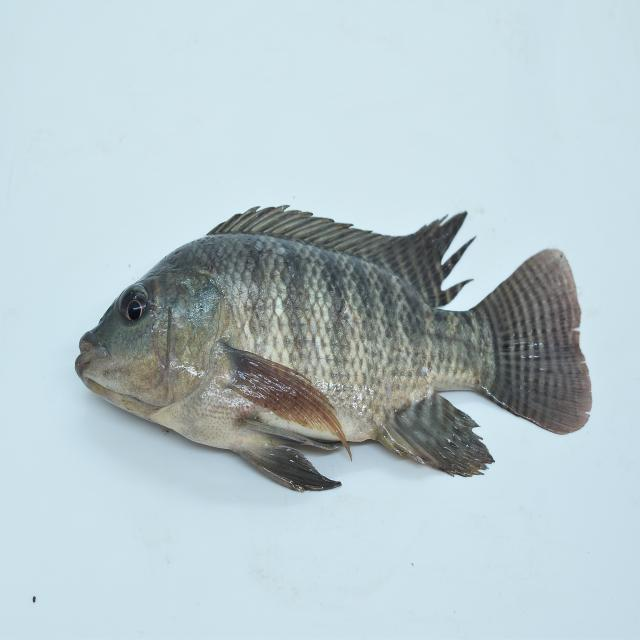Healthy Fish: (65, 200, 595, 495)
